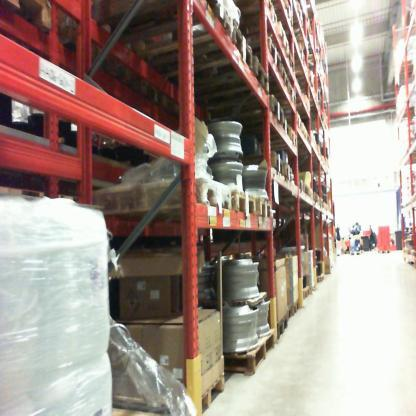pallets: (206, 31, 299, 141), (222, 329, 276, 378), (202, 188, 273, 224), (199, 375, 225, 414), (275, 308, 294, 341)
